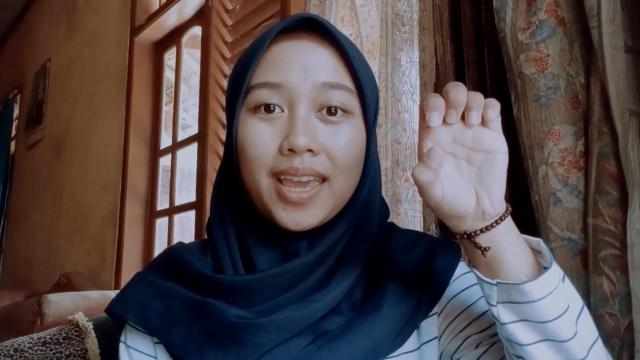E: (412, 81, 512, 219)
